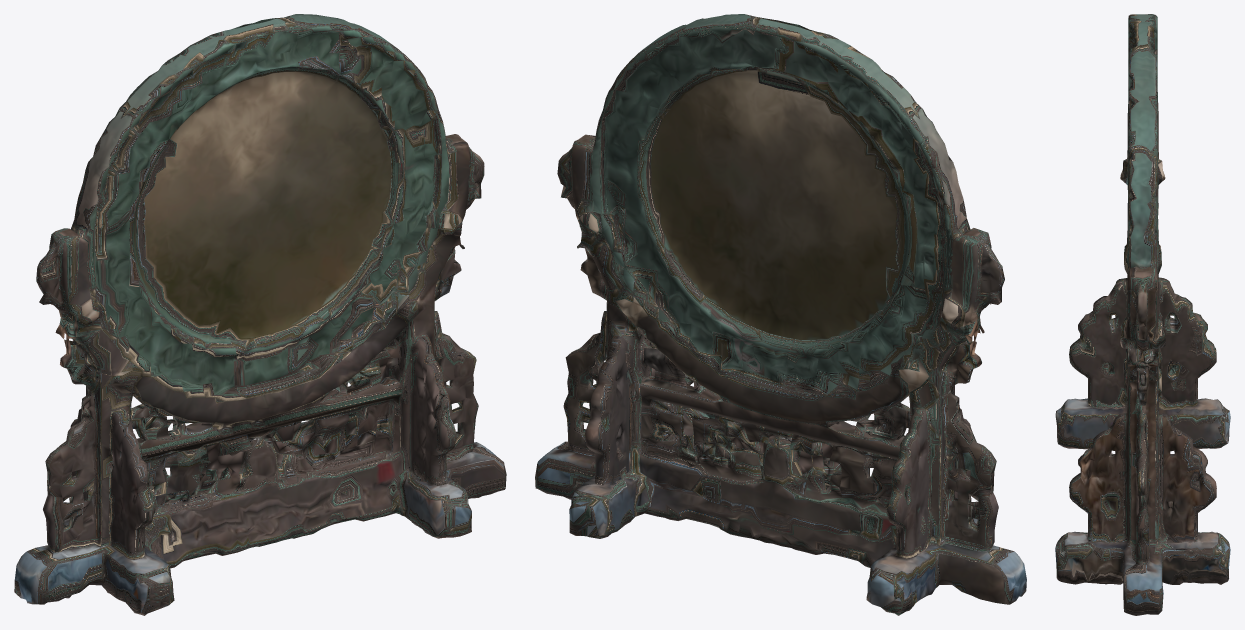
Rendered from S1-01_karma_mirror_A.glb.
3 renders of one model, left to right at view 1: azimuth 30°, elevation 25°; view 2: azimuth 150°, elevation 25°; view 3: azimuth 270°, elevation 25°, orthographic. The views are drawn at different scales.
Visible parts, largest first — view 1: geometry_0; view 2: geometry_0; view 3: geometry_0.
Boxes of the visible parts, left/top/right/bottom form: geometry_0: left=14, top=14, right=506, bottom=615; geometry_0: left=535, top=14, right=1026, bottom=615; geometry_0: left=1055, top=14, right=1230, bottom=615.
Bounding box in the file's own units: 2.4 × 2.5 × 0.8339.
Materials: 1 (1 with a texture image).
